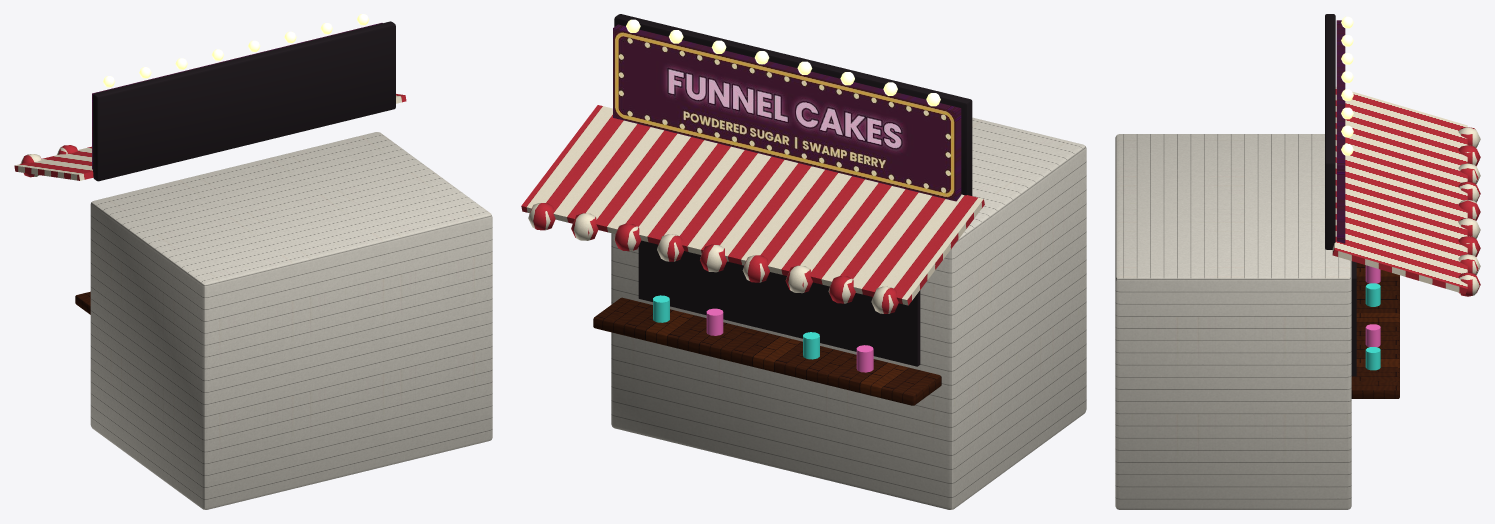
File: stand-funnel.glb
3 renders of one model, left to right at view 1: azimuth 30°, elevation 25°; view 2: azimuth 150°, elevation 25°; view 3: azimuth 270°, elevation 25°, orthographic. The views are drawn at different scales.
Parts seen in each view (by area): view 1: stand-funnel; view 2: stand-funnel; view 3: stand-funnel.
Part boxes in pixels (<box>): stand-funnel: <box>14,14,492,509</box>; stand-funnel: <box>521,14,1086,509</box>; stand-funnel: <box>1115,14,1480,509</box>.
Bounding box in the file's own units: 3.6 × 3.68 × 3.4.
Materials: 8 (4 with a texture image).
